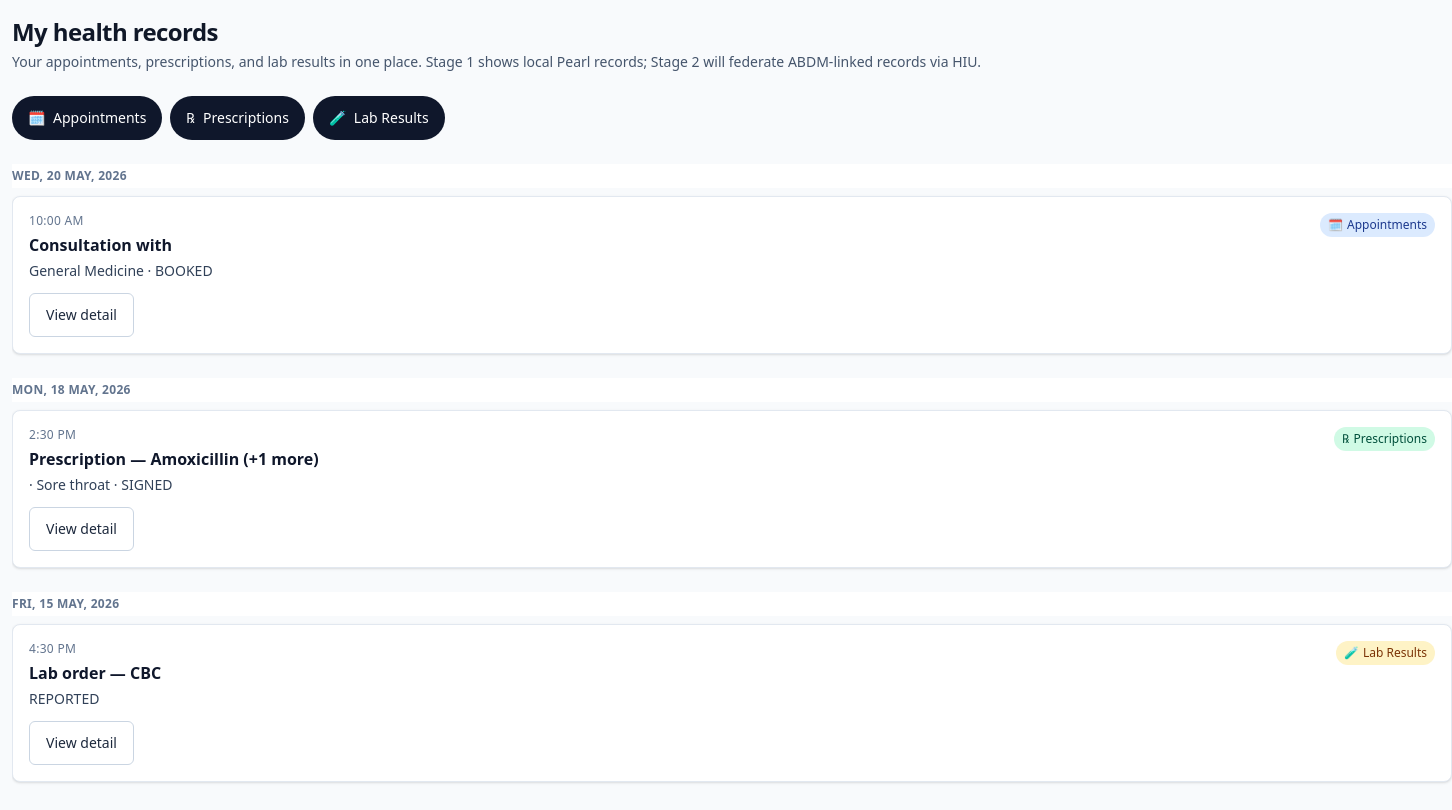
Patient records page — gap #5 piece 3f › toggling the Prescriptions chip off hides only prescription rows client-side
Check: the number of list items with test id "patient-records-row" is 3, box 12,196 -> 1451,354; 12,410 -> 1451,568; 12,624 -> 1451,782
Click the button with test id "patient-records-chip-prescription".
click(238, 118)  # box 170,96 -> 305,140
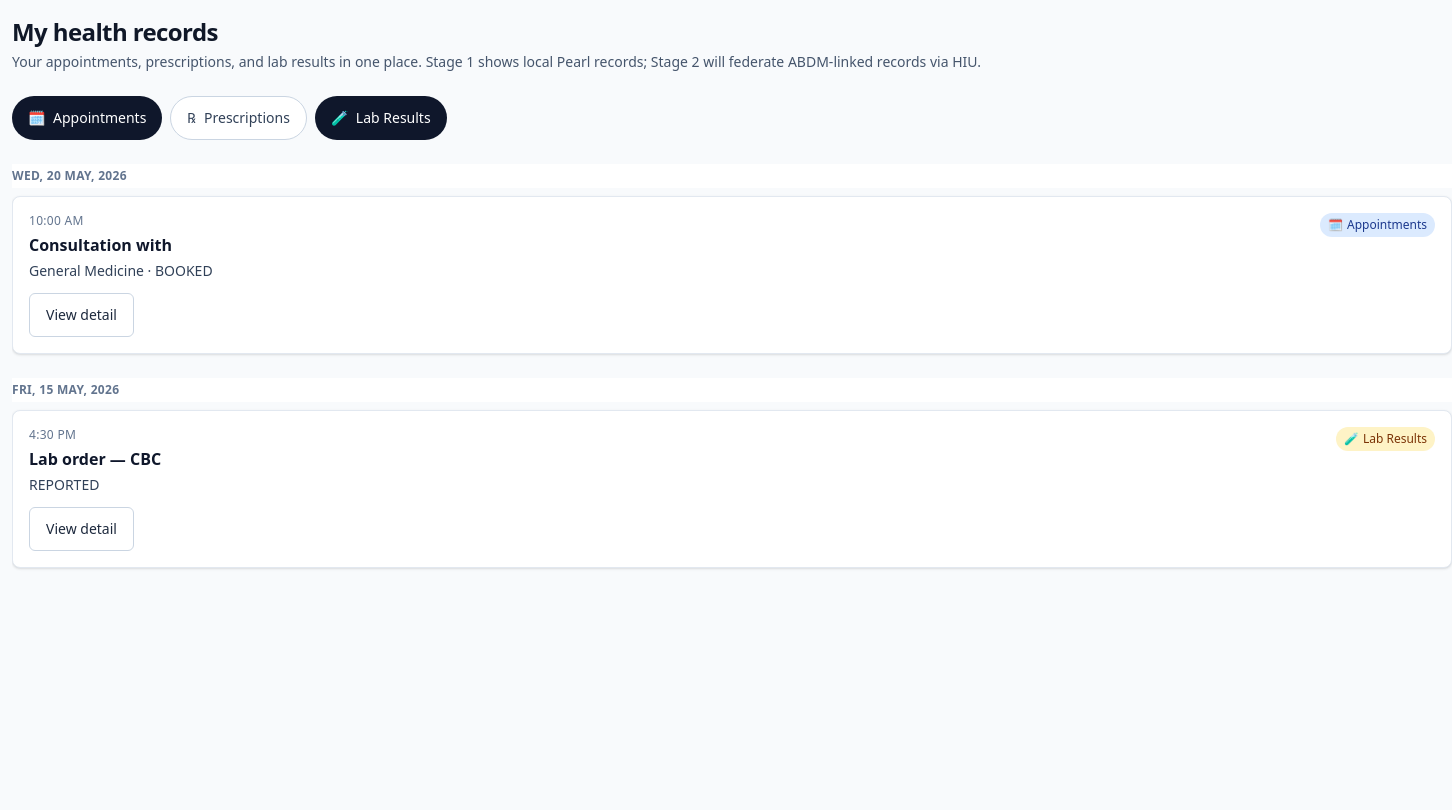
Check: the number of list items with test id "patient-records-row" is 2, box 12,196 -> 1451,354; 12,410 -> 1451,568
